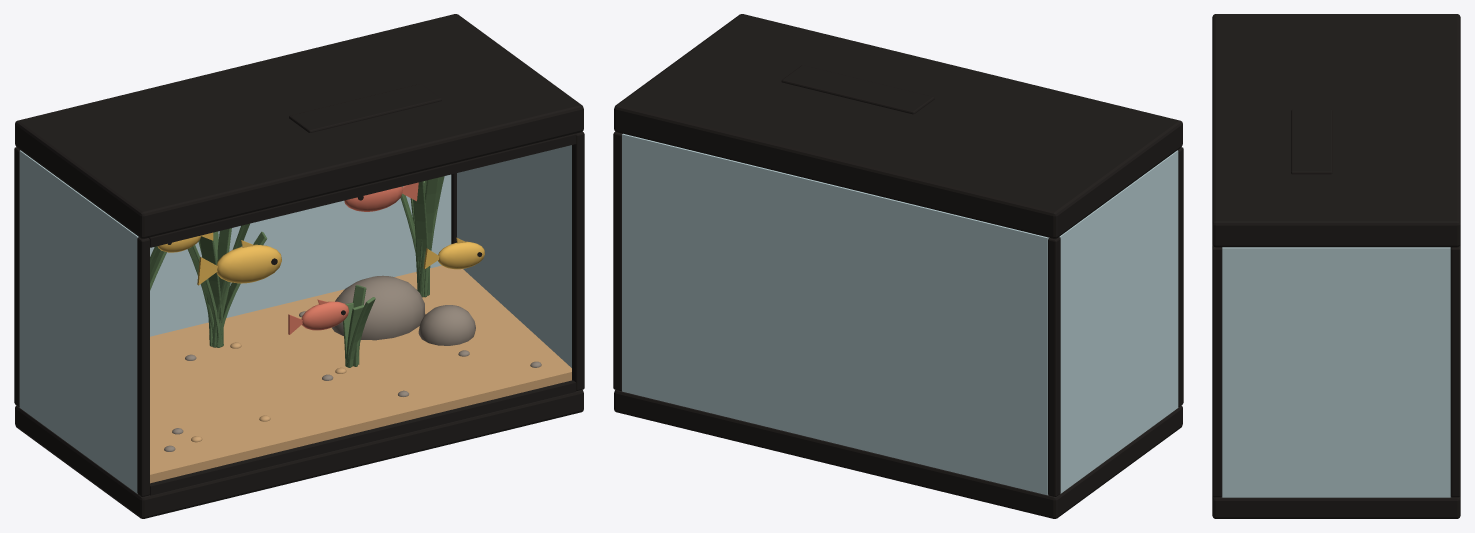
The model's file is hh_cat_aquarium.glb.
The picture shows the model from 3 angles, left to right: view 1: azimuth 30°, elevation 25°; view 2: azimuth 150°, elevation 25°; view 3: azimuth 270°, elevation 25°; orthographic projection. The views are drawn at different scales.
Visible parts, largest first — view 1: lid, gravel, glass_side, glass_back, glass_side.001, base, front_rail, front_rail.001, rock, post, post.002, lid_hatch (+9 smaller); view 2: glass_back, lid, glass_side, base, post.001, lid_hatch, post.003, post; view 3: glass_side.001, lid, base, lid_hatch, post.002, post.003.
Part boxes in pixels (x1,y1,x2,y2): lid: (15, 14, 583, 238); gravel: (150, 265, 571, 483); glass_side: (19, 150, 138, 493); glass_back: (150, 174, 451, 336); glass_side.001: (457, 145, 571, 367); base: (15, 389, 583, 518); front_rail: (150, 380, 576, 495); front_rail.001: (148, 133, 576, 247); rock: (331, 275, 425, 340); post: (137, 237, 149, 496); post.002: (572, 131, 584, 390); lid_hatch: (289, 84, 441, 132); glass_back: (622, 133, 1049, 495); lid: (614, 14, 1182, 238); glass_side: (1059, 150, 1178, 493); base: (614, 389, 1182, 518); post.001: (1048, 237, 1060, 496); lid_hatch: (781, 65, 934, 114); post.003: (613, 131, 622, 390); post: (1177, 147, 1183, 406); glass_side.001: (1222, 247, 1450, 497); lid: (1212, 14, 1460, 247); base: (1212, 496, 1460, 518); lid_hatch: (1291, 109, 1332, 174); post.002: (1212, 246, 1222, 497); post.003: (1450, 246, 1460, 497).
Size of the model in its own units: 0.6 by 0.4 by 0.3.
